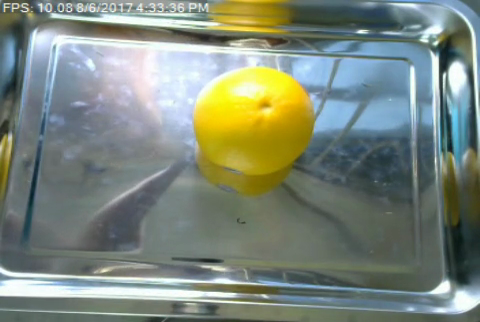Orange: (194, 65, 316, 175)
